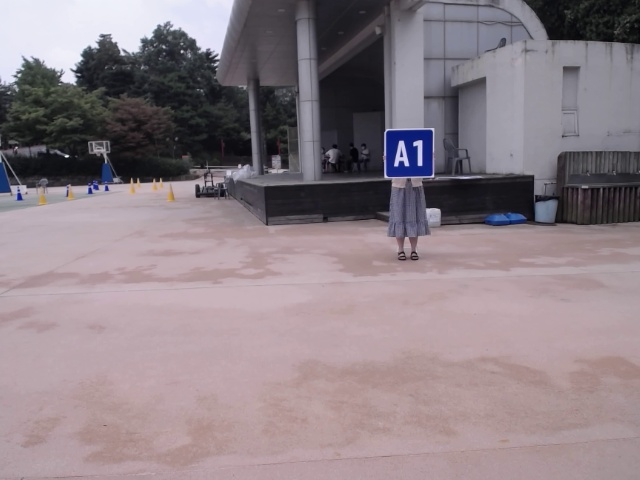delivery_a1: (385, 129, 434, 177)
